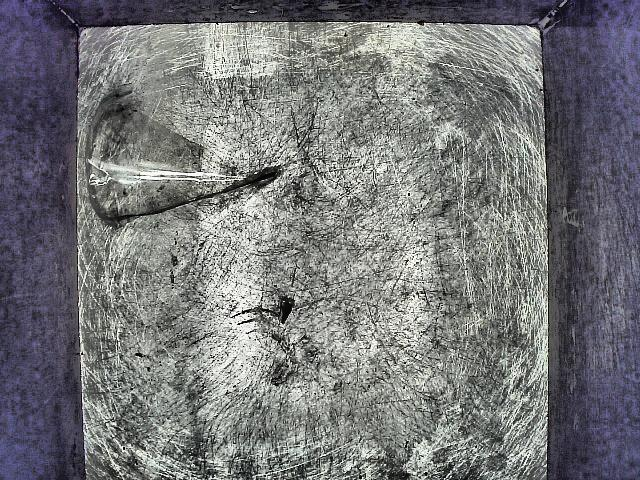Plastic: (82, 85, 299, 219)
